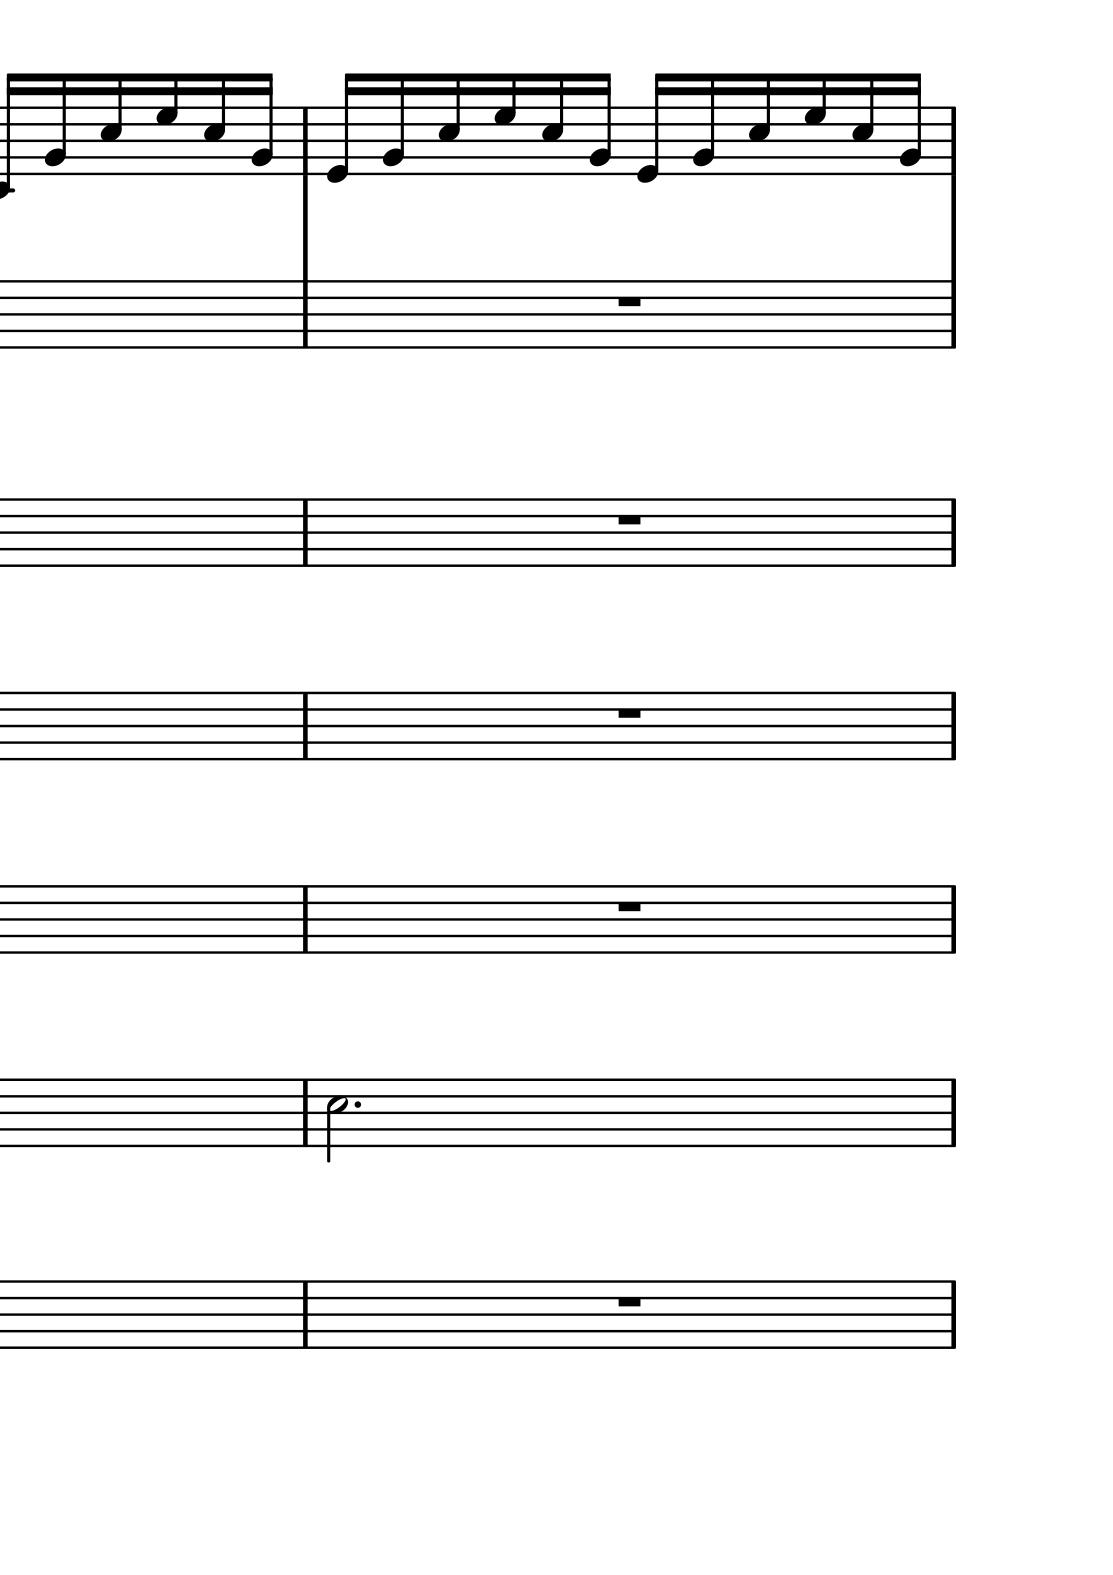16_0: (634, 71, 671, 190), (326, 70, 361, 184)
16_2: (382, 71, 410, 177), (588, 71, 614, 178), (45, 72, 71, 176), (251, 70, 276, 178), (899, 71, 923, 177), (693, 72, 715, 176)
16_5: (198, 70, 228, 179), (436, 70, 464, 177), (98, 70, 125, 175), (849, 72, 876, 178), (747, 71, 773, 176), (541, 72, 566, 178)
16_7: (801, 71, 829, 177), (493, 71, 520, 176), (155, 69, 181, 176)
2_5: (325, 1076, 351, 1164)
Rests1: (616, 896, 644, 918), (614, 511, 646, 529), (616, 1293, 644, 1312), (614, 293, 644, 311), (614, 704, 644, 722)
Single_barline: (291, 1076, 317, 1150), (291, 694, 318, 761), (291, 105, 316, 178), (291, 279, 316, 350), (940, 278, 962, 352), (291, 886, 316, 955), (938, 499, 961, 570), (291, 1280, 316, 1347), (940, 1079, 962, 1149), (293, 497, 316, 566), (938, 692, 961, 761), (940, 885, 962, 954), (940, 1281, 962, 1350), (942, 104, 962, 179)
dot: (349, 1099, 363, 1111)
